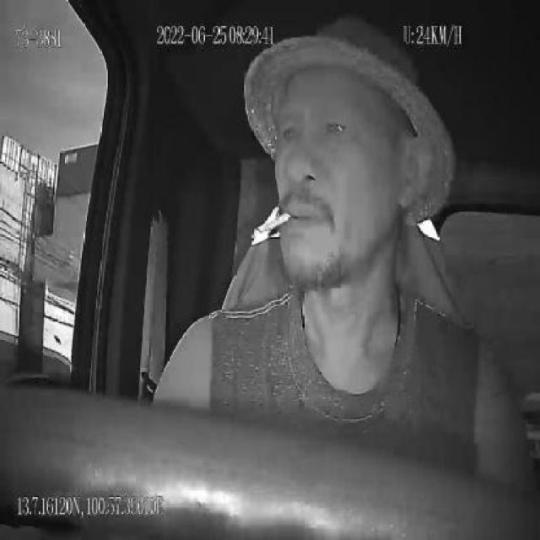smoking: (250, 209, 293, 242)
